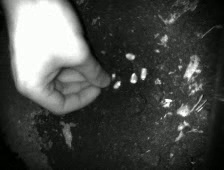corn: (122, 50, 138, 63), (138, 65, 149, 82), (127, 71, 140, 85), (110, 78, 124, 90), (108, 70, 118, 83)
